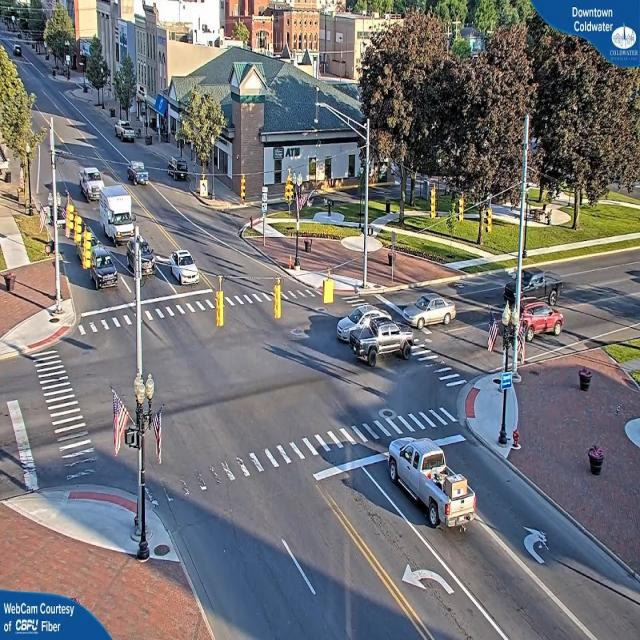car: (386, 438, 474, 538), (352, 322, 413, 362), (503, 268, 566, 306), (524, 292, 566, 342), (402, 292, 455, 328), (336, 304, 378, 339), (126, 234, 154, 282), (166, 250, 200, 287), (90, 248, 118, 292), (78, 168, 102, 200), (126, 162, 148, 186), (117, 123, 136, 142)
truck: (102, 188, 138, 245)
